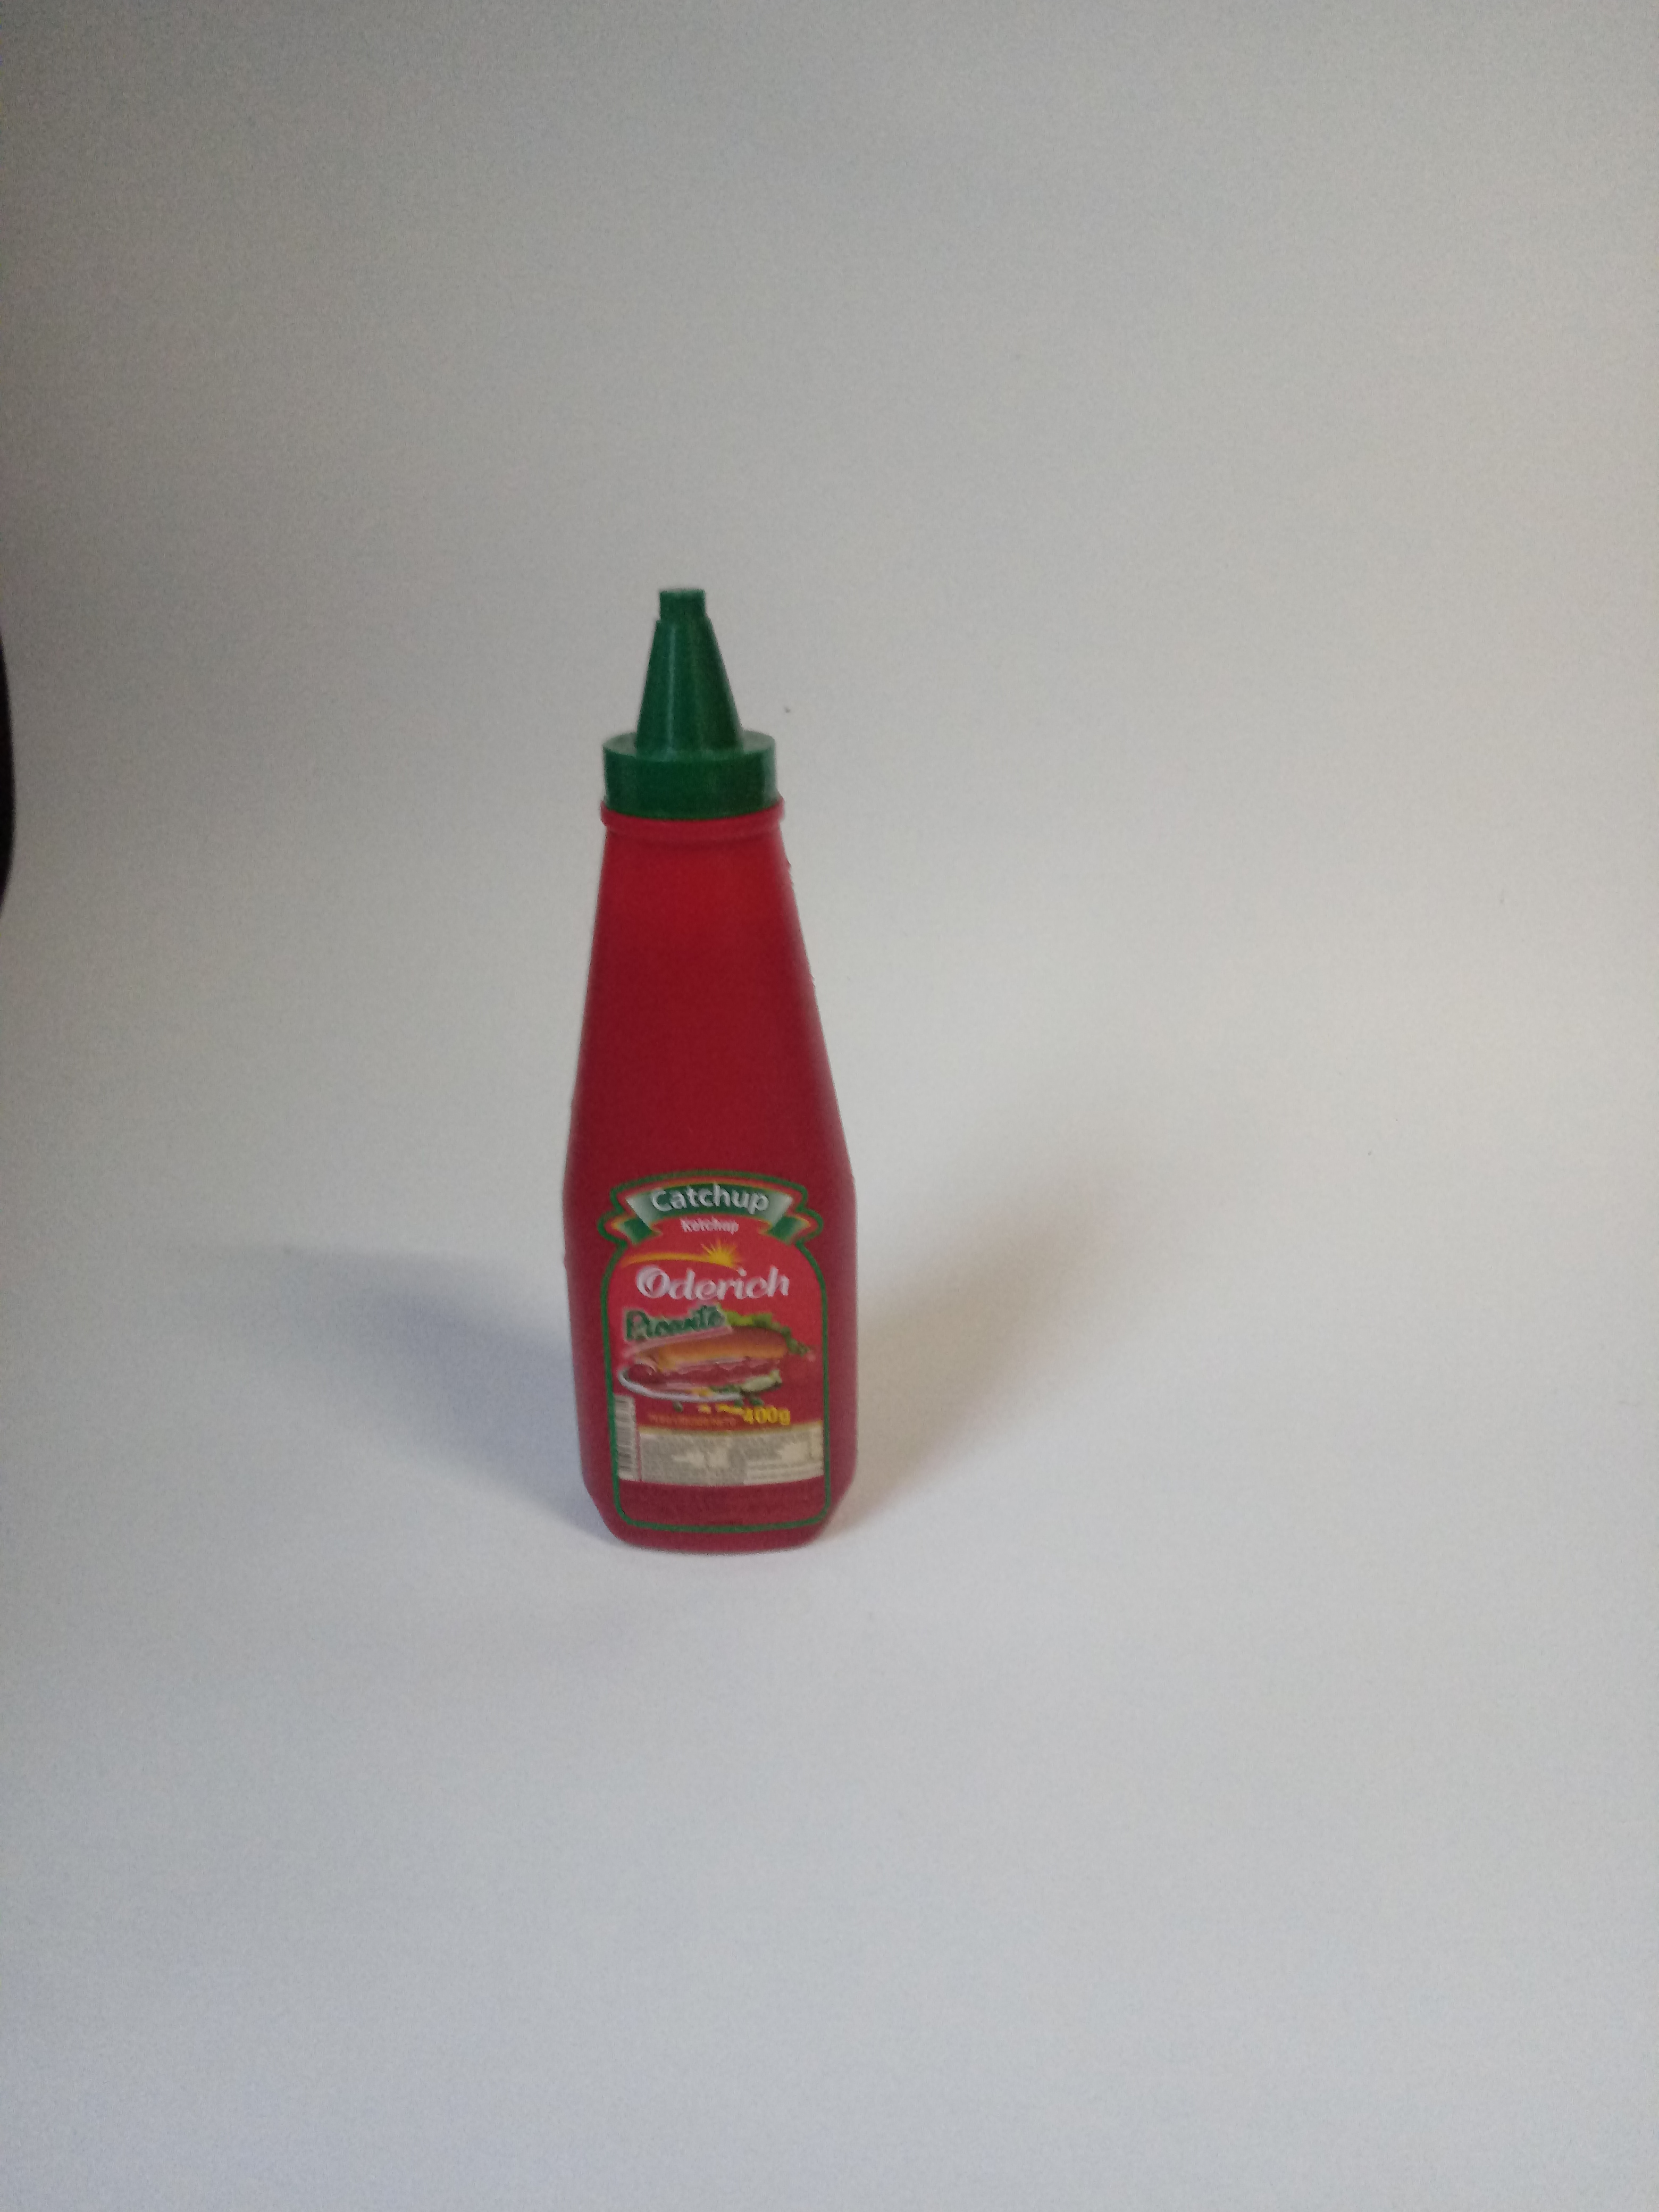catchup-oderich: (526, 554, 880, 1578)
